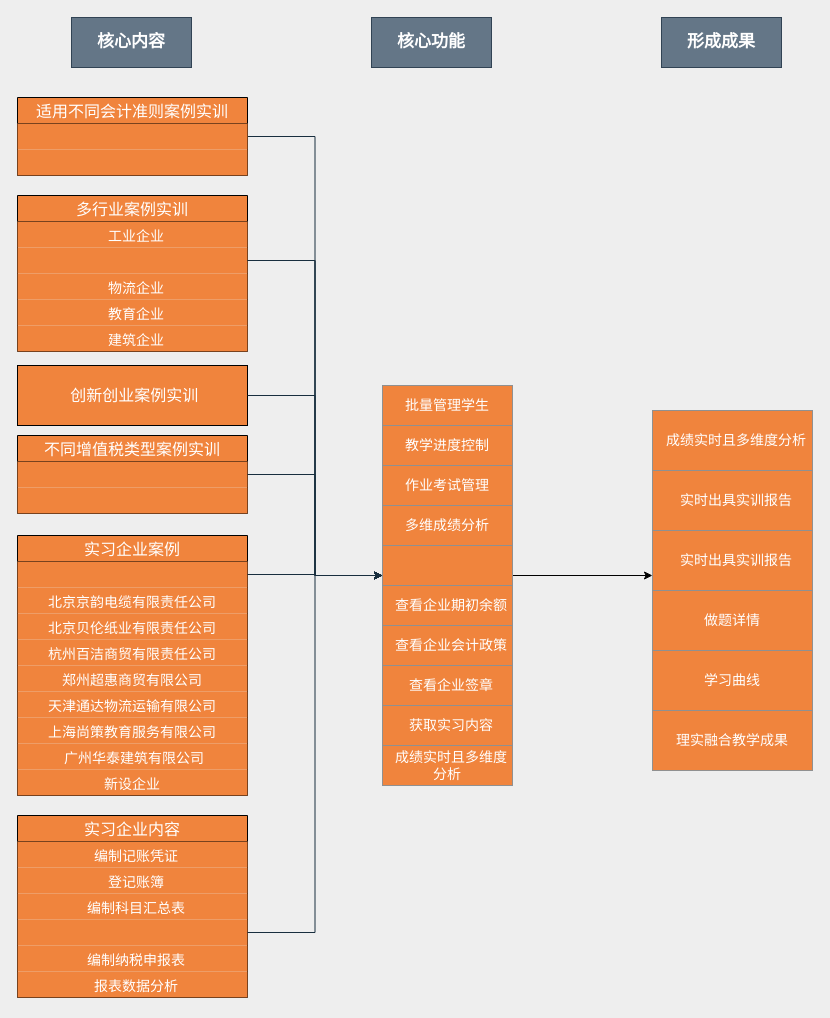
This 830x1018 diagram has some shape labels left out. Each missing label, with the centre of its shape:
"《企业会计准则》" goes at [132,136].
"《小企业会计准则》" goes at [132,162].
"一般纳税人企业案例" goes at [132,474].
"北京勇华机械制造有限责任公司" goes at [132,574].
"商贸企业" goes at [132,260].
"小规模纳税人企业案例" goes at [132,500].
"查看企业基本信息" goes at [447,565].
"编制财务报表" goes at [132,932].
